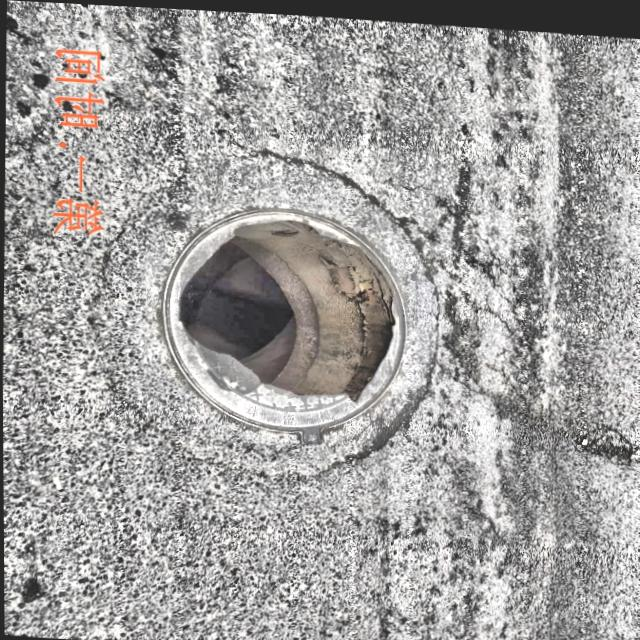open_manhole: (176, 203, 417, 419)
